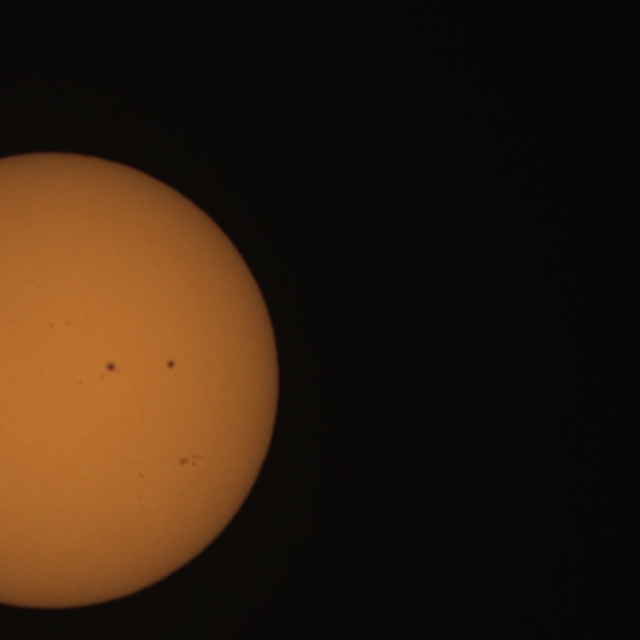sunspot: (98, 360, 120, 381), (177, 452, 204, 469), (165, 358, 177, 371), (137, 470, 146, 480), (48, 321, 55, 330), (77, 379, 84, 387)
